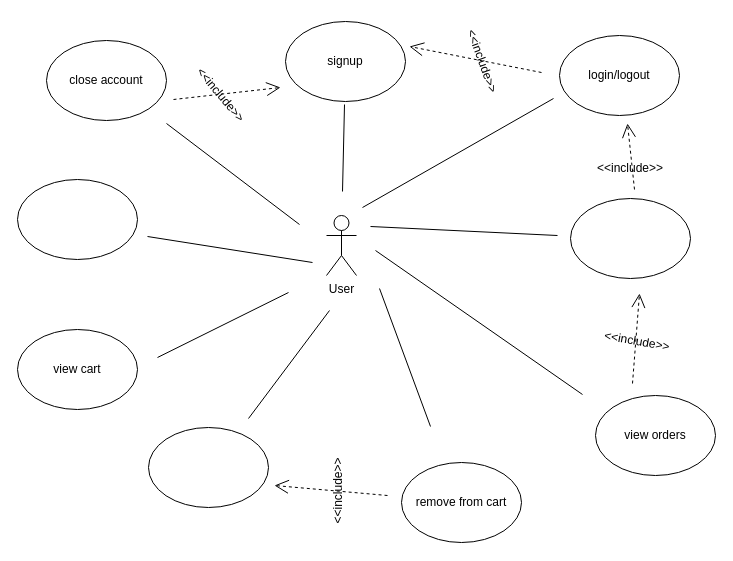
This 733x561 diagram has some shape labels left out. Here are the shapes that lost their labels. From the top down, the centre of each, then its label:
At point 77,219: "search for products".
At point 630,238: "checkout".
At point 208,467: "add to cart".
